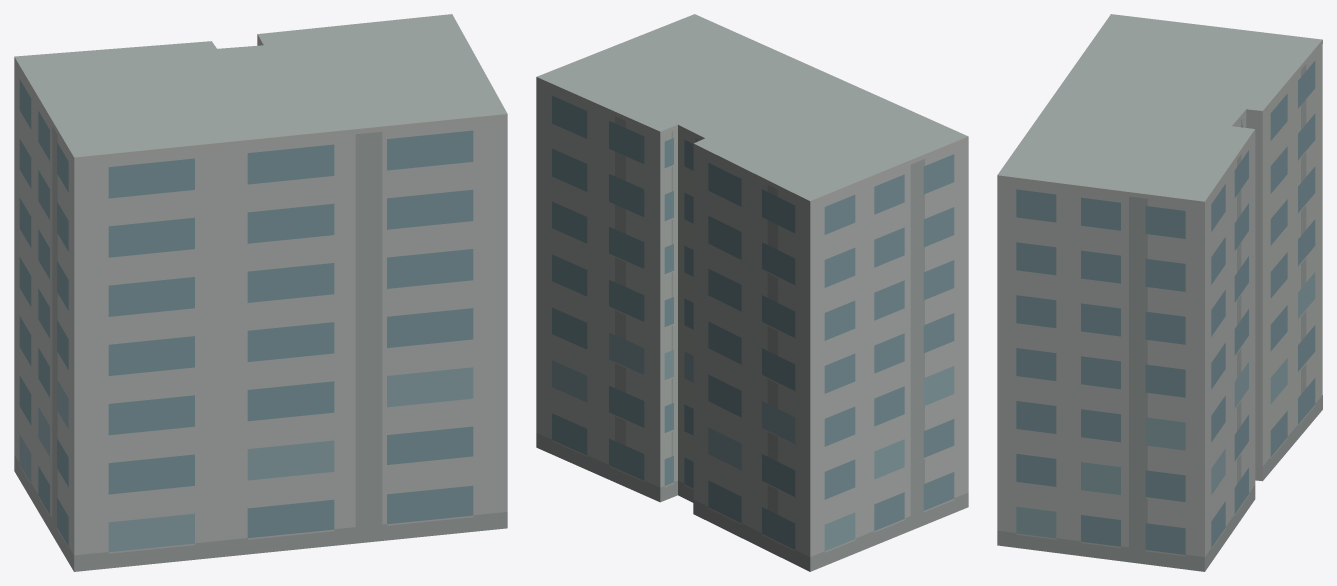
File: survey-upis-32996230.glb
3 renders of one model, left to right at view 1: azimuth 30°, elevation 25°; view 2: azimuth 150°, elevation 25°; view 3: azimuth 270°, elevation 25°, orthographic. The views are drawn at different scales.
Visible parts, largest first — view 1: survey-upis-32996230.tmp; view 2: survey-upis-32996230.tmp; view 3: survey-upis-32996230.tmp.
Part boxes in pixels (box(x1,y1,x2,y2)): survey-upis-32996230.tmp: box(14, 14, 507, 571); survey-upis-32996230.tmp: box(536, 14, 968, 571); survey-upis-32996230.tmp: box(997, 14, 1322, 571).
Bounding box in the file's own units: 21.76 × 20 × 15.95.
